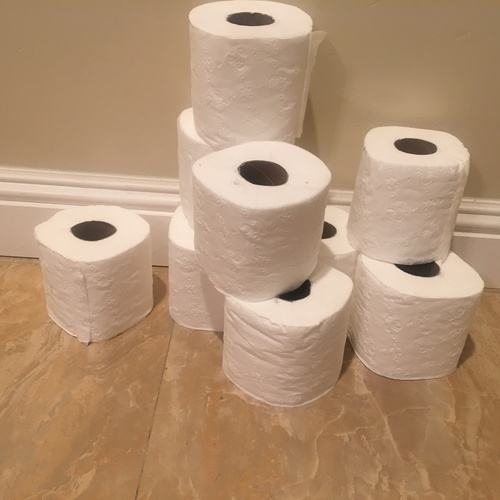roll: (222, 259, 352, 409), (346, 245, 484, 378), (186, 1, 313, 143), (346, 125, 469, 261), (34, 204, 155, 342), (167, 201, 224, 333), (177, 107, 230, 229), (316, 205, 363, 289)
